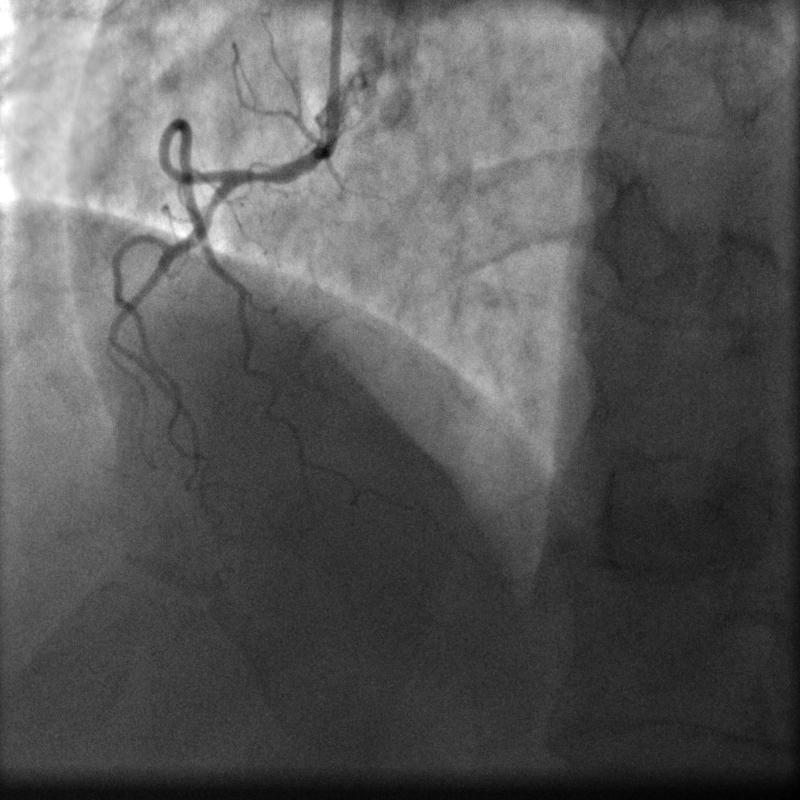Stenosis: (235, 155, 279, 193)
